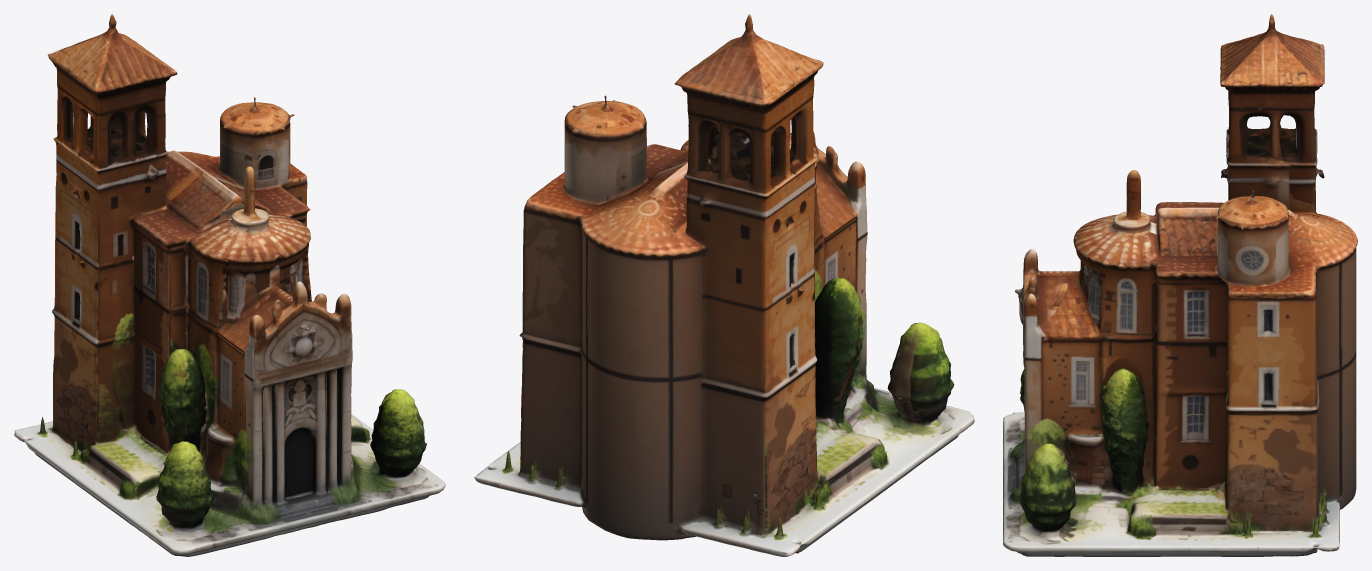
The model's file is old_house_1_lev2.glb.
The picture shows the model from 3 angles, left to right: view 1: azimuth 30°, elevation 25°; view 2: azimuth 150°, elevation 25°; view 3: azimuth 270°, elevation 25°; orthographic projection. The views are drawn at different scales.
Parts seen in each view (by area): view 1: model_0; view 2: model_0; view 3: model_0.
Boxes of the visible parts, x1,y1,x2,y2 form: model_0: (14, 14, 445, 556); model_0: (474, 14, 974, 556); model_0: (1003, 14, 1357, 556).
Bounding box in the file's own units: 38.73 × 59.27 × 42.84.
1 material, 1 textured.
